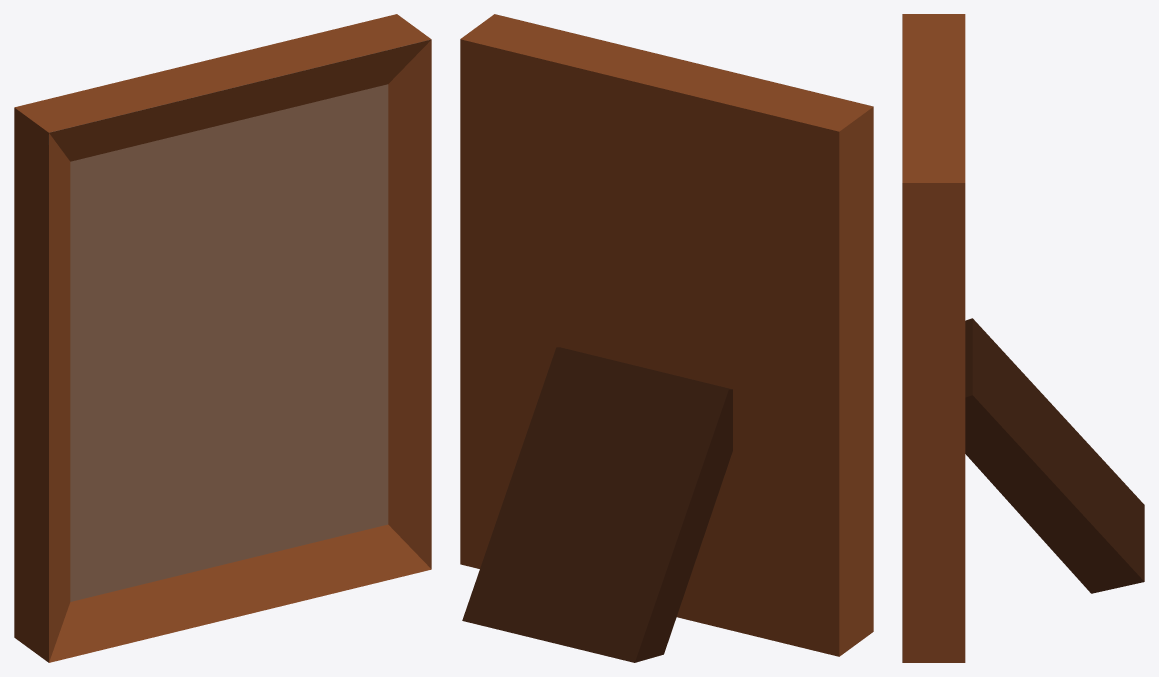
The model's file is PicFrame.fbx.
3 views of the same model, side by side, from view 1: azimuth 30°, elevation 25°; view 2: azimuth 150°, elevation 25°; view 3: azimuth 270°, elevation 25° (orthographic). The views are drawn at different scales.
Visible parts, largest first — view 1: Test_assets:Picture_frame; view 2: Test_assets:Picture_frame, Test_assets:picture_stand; view 3: Test_assets:Picture_frame, Test_assets:picture_stand.
Boxes of the visible parts, x1=… form: Test_assets:Picture_frame: x1=14, y1=14, x2=431, y2=662; Test_assets:Picture_frame: x1=460, y1=14, x2=873, y2=656; Test_assets:picture_stand: x1=462, y1=347, x2=732, y2=662; Test_assets:Picture_frame: x1=902, y1=14, x2=965, y2=662; Test_assets:picture_stand: x1=965, y1=318, x2=1144, y2=593.
Bounding box in the file's own units: 347 × 459 × 210.
